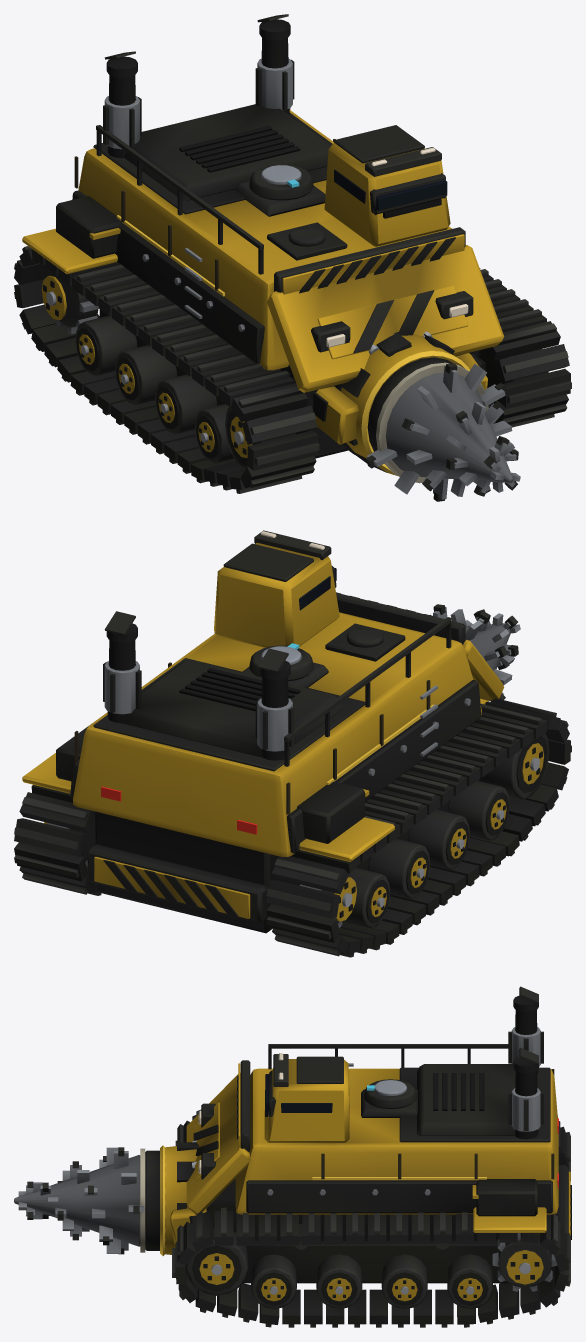
File: ex_crawler_2.glb
3 renders of one model, top to bottom at view 1: azimuth 30°, elevation 25°; view 2: azimuth 150°, elevation 25°; view 3: azimuth 270°, elevation 25°, orthographic. The views are drawn at different scales.
Parts seen in each view (by area): view 1: body, drill, wheel_8, wheel_9, wheel_10, wheel_6, wheel_11, wheel_7; view 2: body, drill, wheel_9, wheel_10, wheel_11, wheel_7, wheel_8, wheel_6; view 3: body, drill, wheel_1, wheel_0, wheel_4, wheel_3, wheel_5, wheel_2.
Part boxes in pixels (x1,y1,x2,y2): body: (14, 14, 571, 493); drill: (366, 357, 520, 501); wheel_8: (75, 315, 137, 375); wheel_9: (115, 345, 177, 405); wheel_10: (155, 374, 217, 434); wheel_6: (41, 271, 99, 334); wheel_11: (195, 404, 234, 463); wheel_7: (225, 406, 295, 470); body: (14, 530, 571, 957); drill: (430, 604, 520, 702); wheel_9: (368, 838, 429, 899); wheel_10: (408, 809, 469, 869); wheel_11: (448, 781, 509, 840); wheel_7: (479, 733, 549, 799); wheel_8: (342, 868, 390, 928); wheel_6: (299, 873, 356, 928); body: (160, 986, 571, 1327); drill: (14, 1147, 159, 1254); wheel_1: (185, 1227, 248, 1295); wheel_0: (492, 1233, 557, 1291); wheel_4: (316, 1254, 362, 1309); wheel_3: (381, 1254, 427, 1309); wheel_5: (251, 1254, 296, 1308); wheel_2: (447, 1254, 492, 1308).
Bounding box in the file's own units: 5.48 × 4.72 × 9.78.
